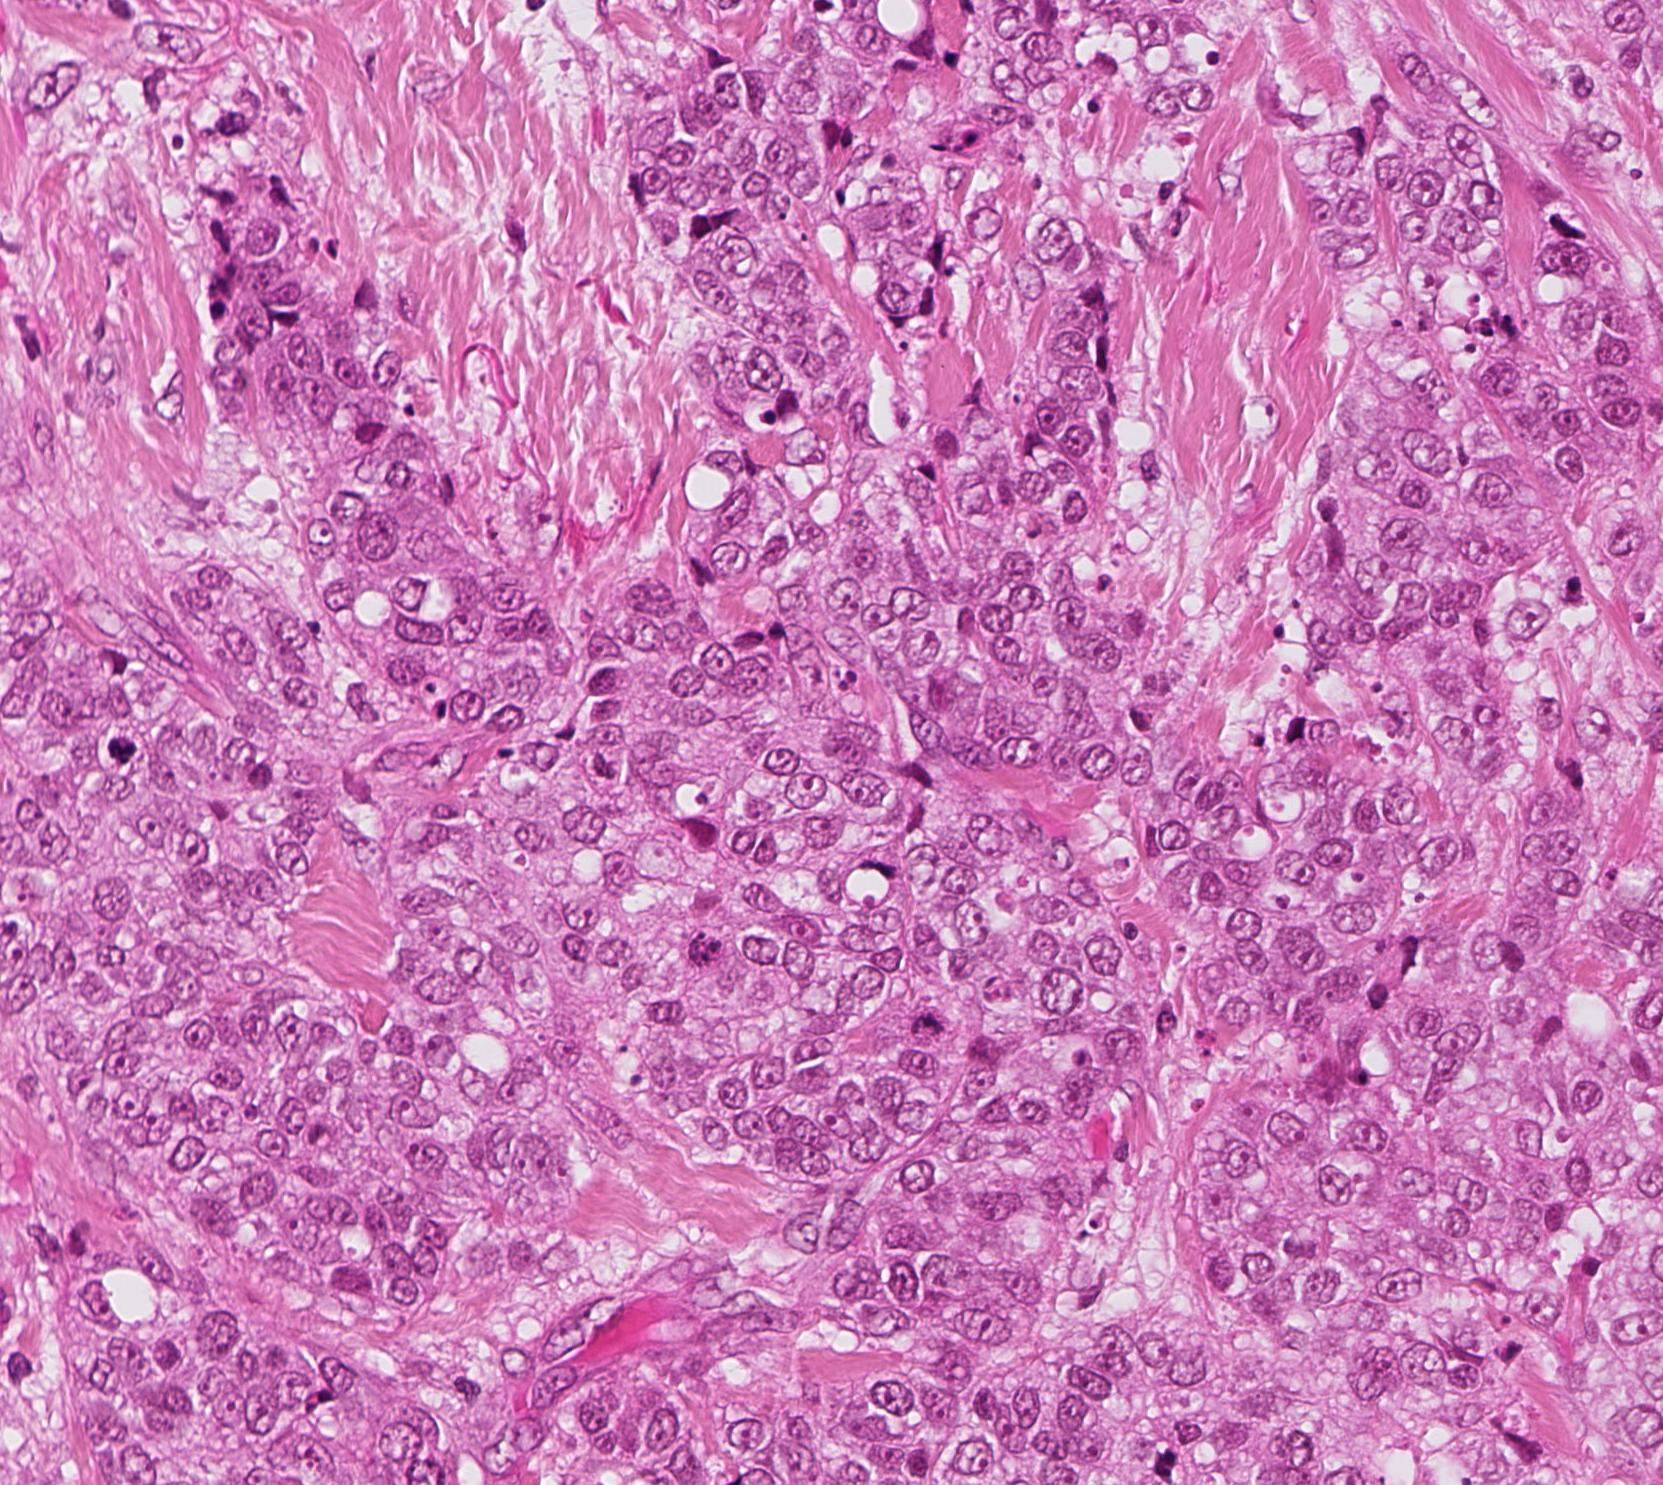mitosis: (892, 989, 952, 1049)
